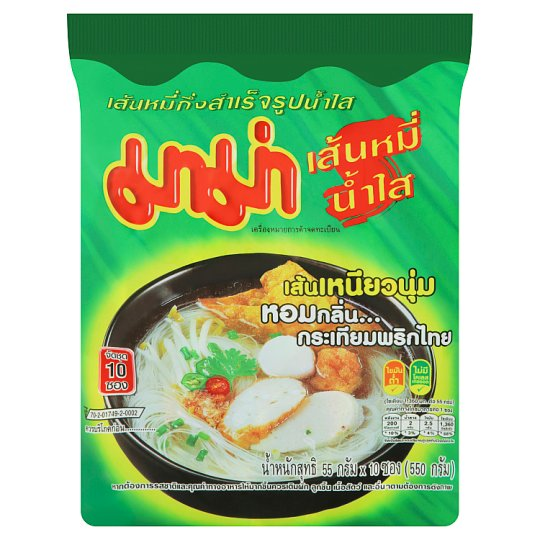Snack: (58, 8, 476, 534)
